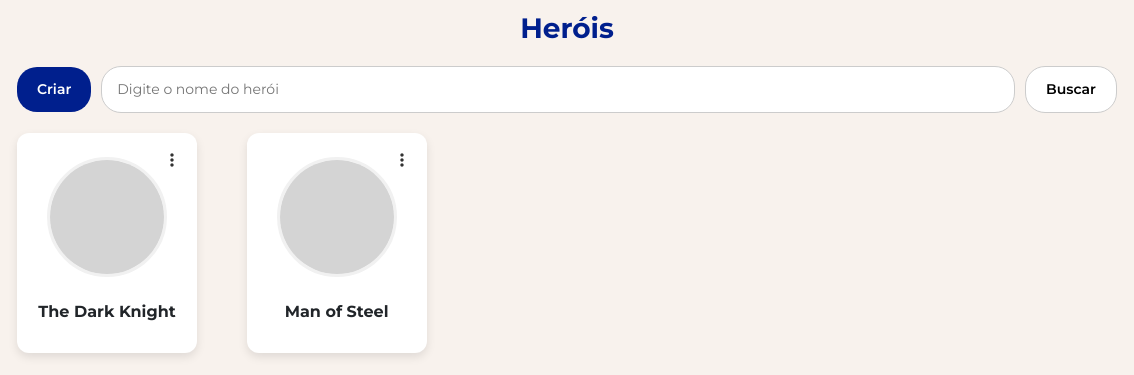
Test: HeroList Page › filters heroes based on search input
Type "Batman" into the field with placeholder "Digite o nome do herói" at point(558, 89), box [101,66,1015,113]
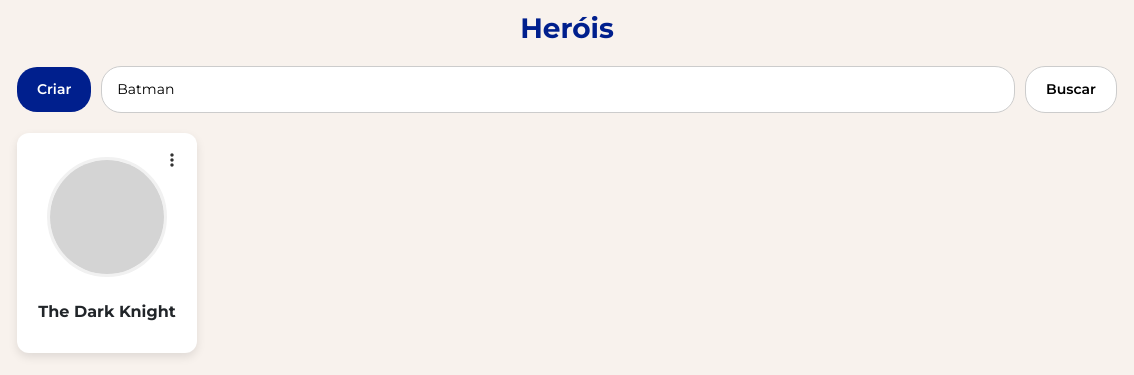
expect the heading "The Dark Knight" is shown: met, box [38,302,176,321]
expect the heading "Man of Steel" is gone: met
